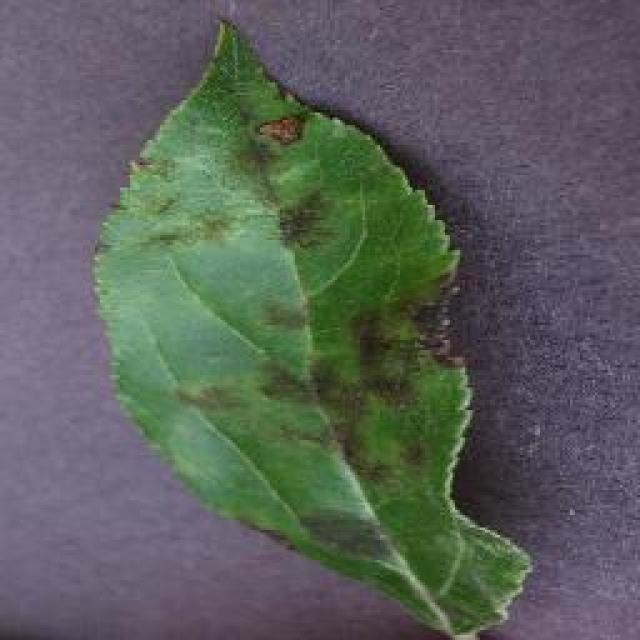apple scab disease: (90, 15, 532, 637)
